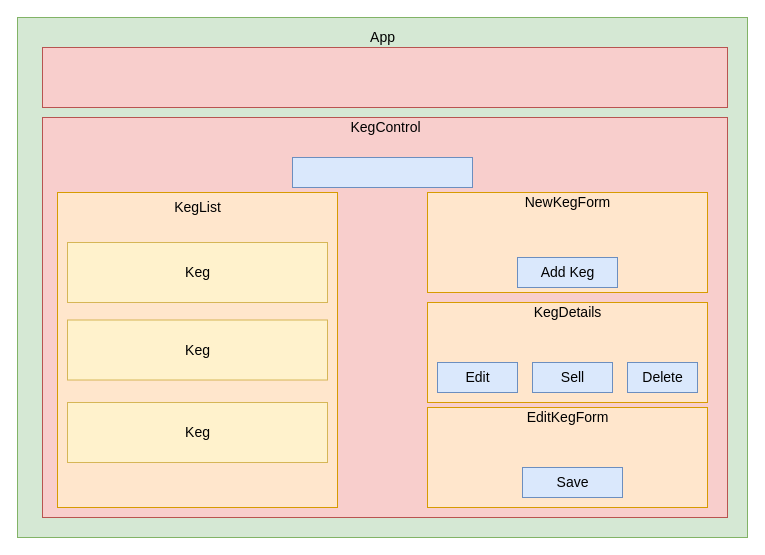
Some shapes in this 765 by 555 pixel diagram are drawn without their labels. The box of each missing label's shape, as (x1, y1, x2, y2) in pixels:
Add Keg/Return to Menu: (292, 156, 472, 188)
Header: (42, 46, 728, 108)
